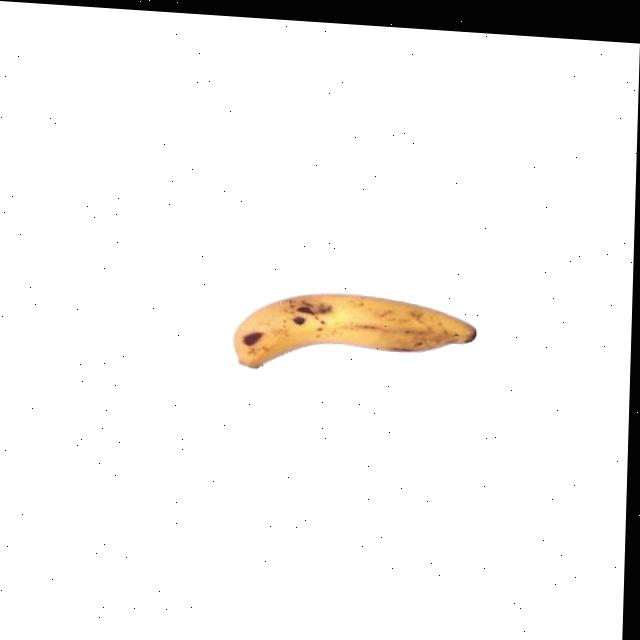banana: (230, 281, 482, 386)
